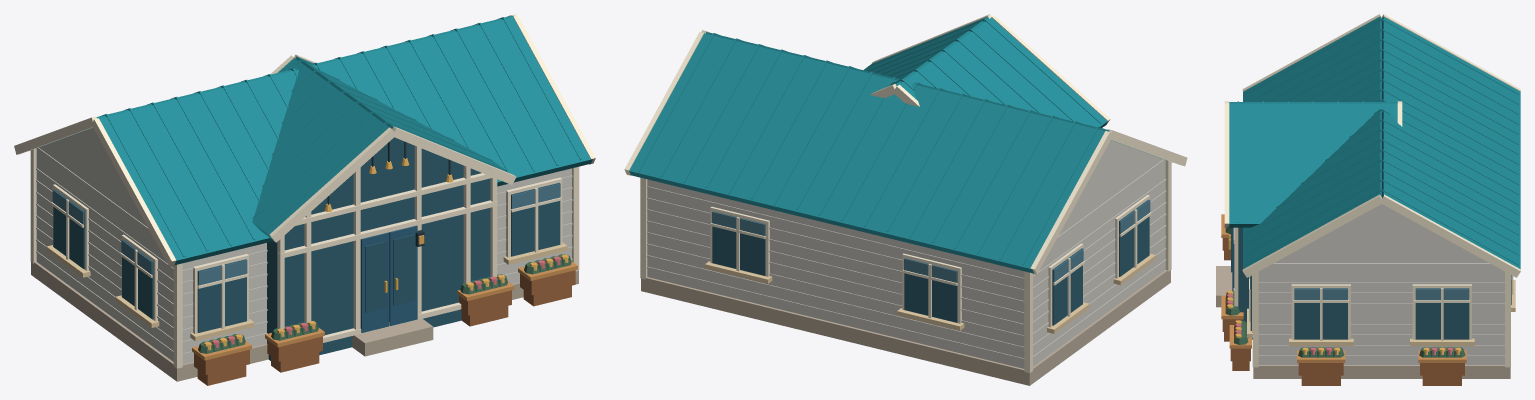
File: glass_hall.glb
3 views of the same model, side by side, from view 1: azimuth 30°, elevation 25°; view 2: azimuth 150°, elevation 25°; view 3: azimuth 270°, elevation 25° (orthographic). The views are drawn at different scales.
Visible parts, largest first — view 1: glass_hall; view 2: glass_hall; view 3: glass_hall.
Boxes of the visible parts, x1,y1,x2,y2 form: glass_hall: (14,14,595,385); glass_hall: (624,14,1187,385); glass_hall: (1216,14,1520,385).
Bounding box in the file's own units: 12.19 × 5.85 × 8.46.
